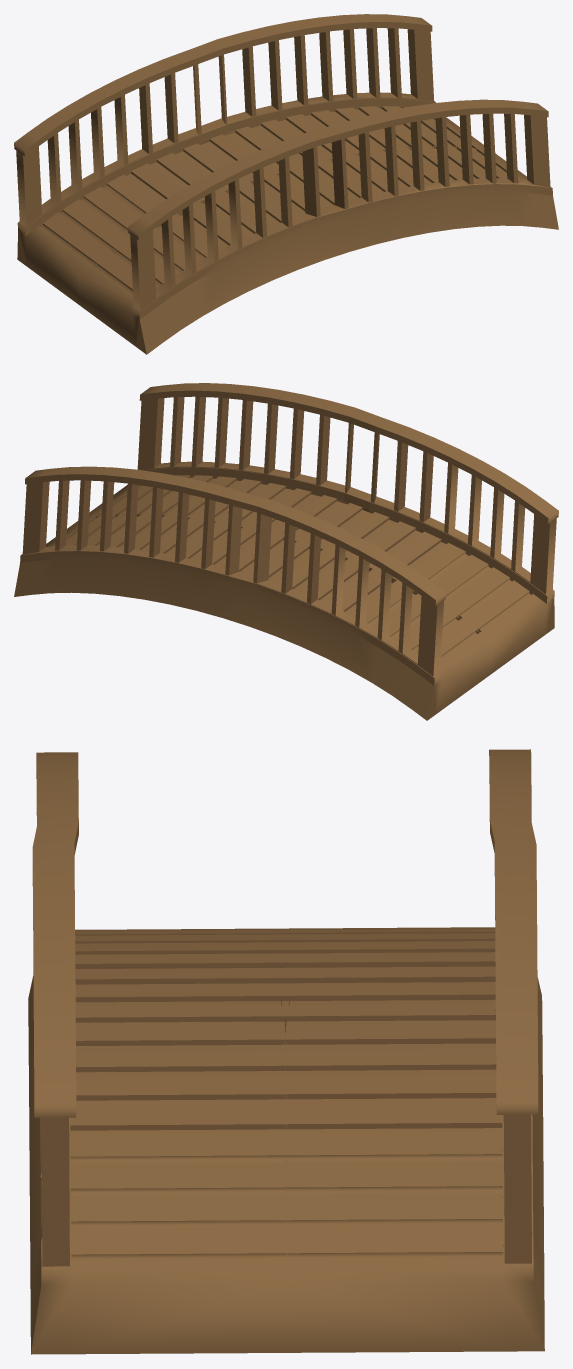
The model's file is Bridge (4).fbx.
3 renders of one model, top to bottom at view 1: azimuth 30°, elevation 25°; view 2: azimuth 150°, elevation 25°; view 3: azimuth 270°, elevation 25°, orthographic. The views are drawn at different scales.
Parts seen in each view (by area): view 1: Bridge_First; view 2: Bridge_First; view 3: Bridge_First.
Part boxes in pixels (x1=…): Bridge_First: x1=14, y1=14, x2=558, y2=354; Bridge_First: x1=14, y1=383, x2=558, y2=720; Bridge_First: x1=28, y1=749, x2=544, y2=1354.
Size of the model in its own units: 1029 by 1928 by 768.
